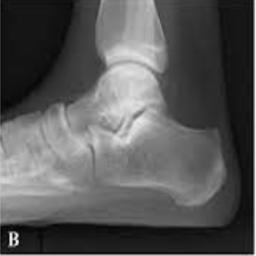cancer: (88, 62, 169, 149)
